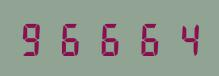four: (162, 20, 197, 56)
nine: (18, 20, 53, 56)
six: (54, 20, 89, 56), (90, 20, 125, 56), (126, 20, 161, 56)
